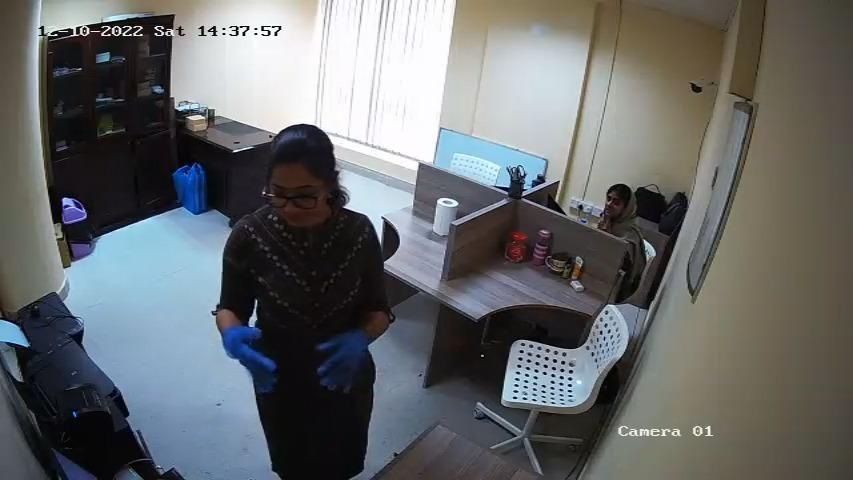apron: (312, 330, 374, 398), (219, 327, 278, 380)
no_gloves: (258, 125, 352, 190), (592, 180, 646, 244)
no_hairnet: (264, 196, 332, 238), (596, 194, 629, 222)
